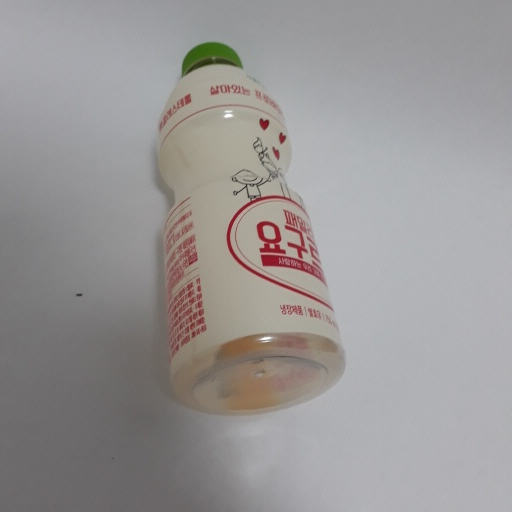Plastic_0: (151, 43, 351, 419)
